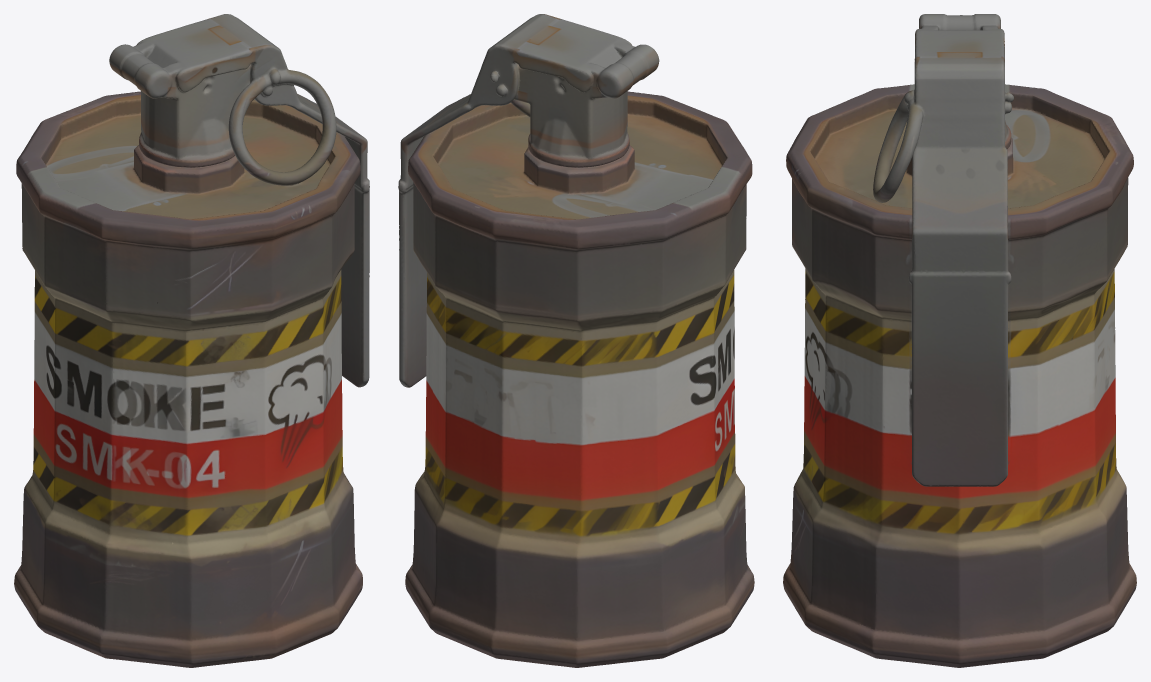
File: tripo_convert_74898d79-57f9-4f4d-9846-ab9c9d0f9dd0.fbx
3 renders of one model, left to right at view 1: azimuth 30°, elevation 25°; view 2: azimuth 150°, elevation 25°; view 3: azimuth 270°, elevation 25°, orthographic.
Visible parts, largest first — view 1: tripo_node_74898d79; view 2: tripo_node_74898d79; view 3: tripo_node_74898d79.
Boxes of the visible parts, x1=… form: tripo_node_74898d79: x1=14, y1=14, x2=369, y2=667; tripo_node_74898d79: x1=398, y1=14, x2=754, y2=667; tripo_node_74898d79: x1=783, y1=14, x2=1136, y2=667.
Bounding box in the file's own units: 0.5428 × 1 × 0.5298.
Materials: 1 (1 with a texture image).
